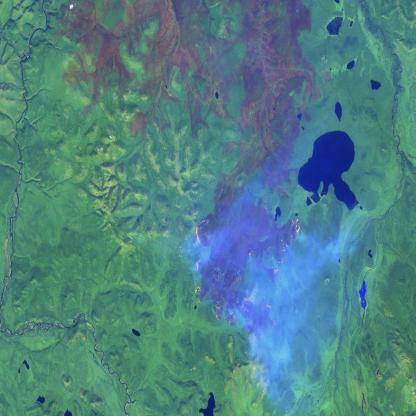fire: (189, 206, 304, 356)
